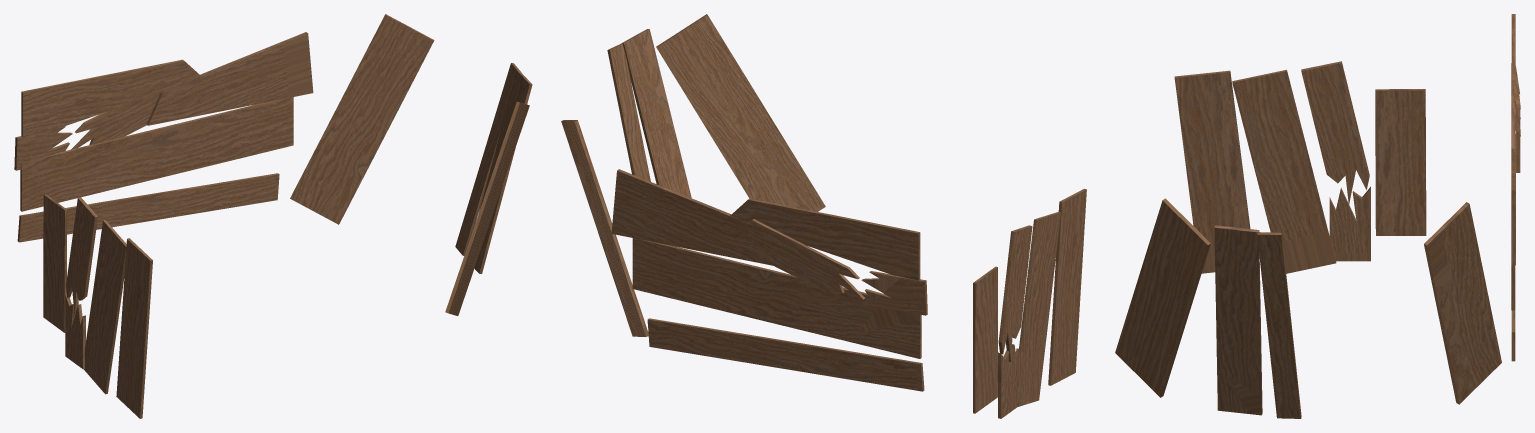
The model's file is BoatPlanks_V1.fbx.
3 views of the same model, side by side, from view 1: azimuth 30°, elevation 25°; view 2: azimuth 150°, elevation 25°; view 3: azimuth 270°, elevation 25° (orthographic). The views are drawn at different scales.
Visible parts, largest first — view 1: Boat_Planks; view 2: Boat_Planks; view 3: Boat_Planks.
Part boxes in pixels (x1,y1,x2,y2): Boat_Planks: (14,14,532,418); Boat_Planks: (561,14,1086,418); Boat_Planks: (1115,14,1520,418).
Size of the model in its own units: 253 by 142 by 184.
1 material, 1 textured.
